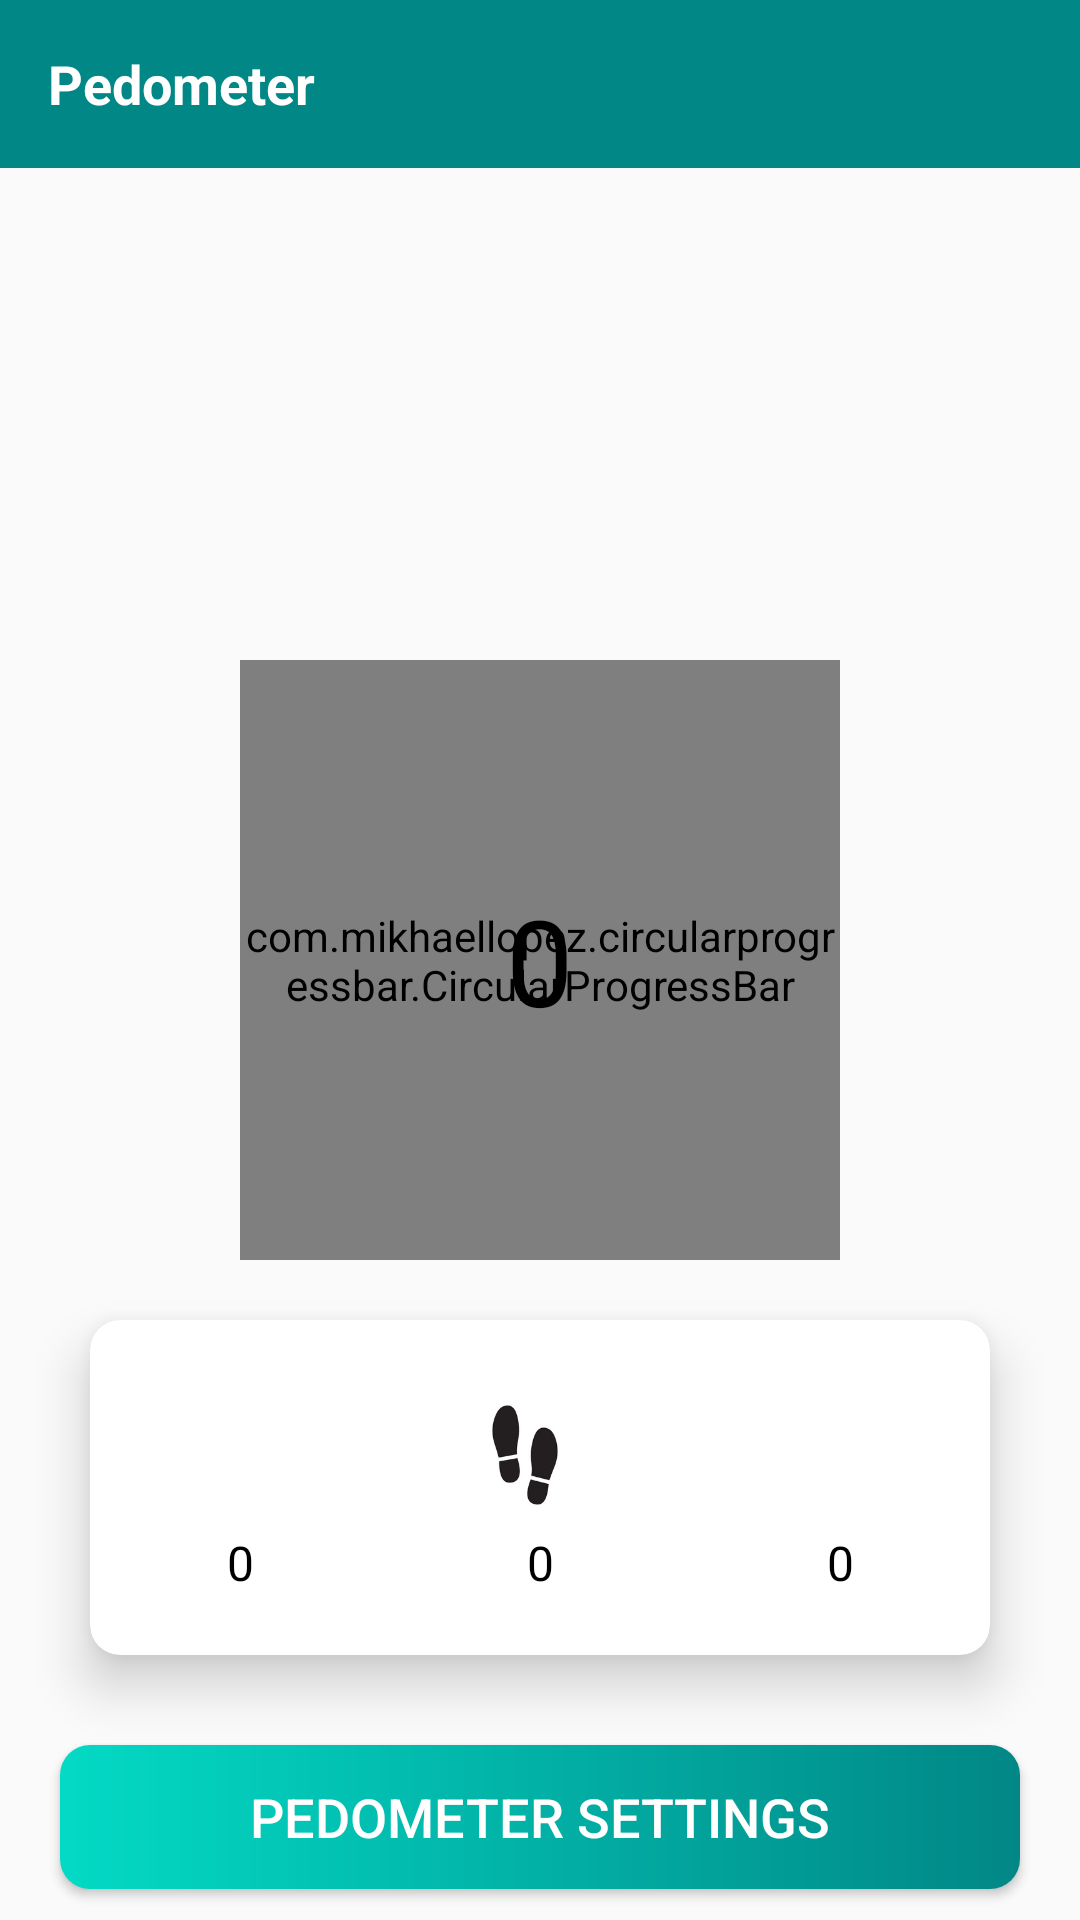

Named icons in this screenshot (1080×1920) and their centers, point (x, y):
steps: point (525, 1455)
